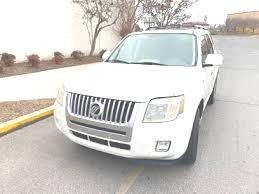Mercury: (86, 96, 108, 124)
